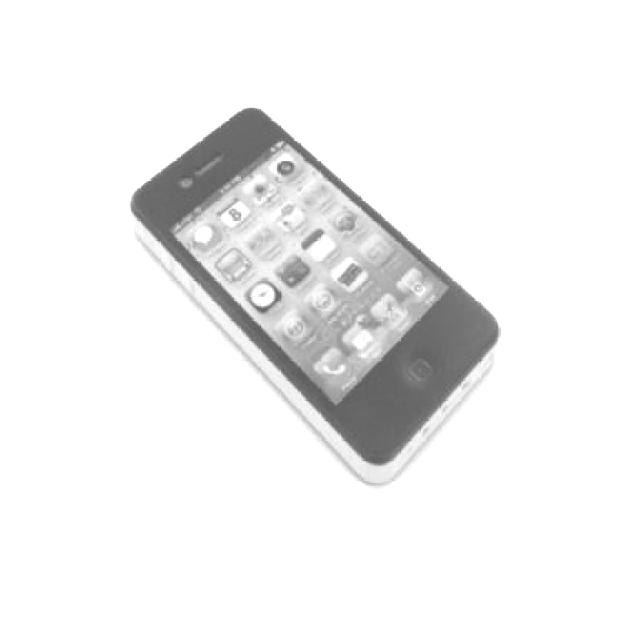fake: (128, 106, 500, 486)
